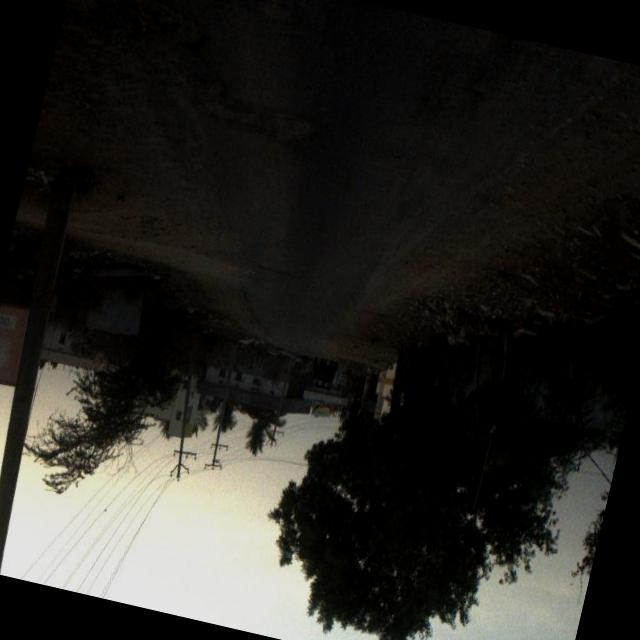pothole: (210, 63, 345, 187), (447, 26, 558, 156), (122, 0, 235, 73), (244, 222, 334, 312), (228, 0, 321, 61)
